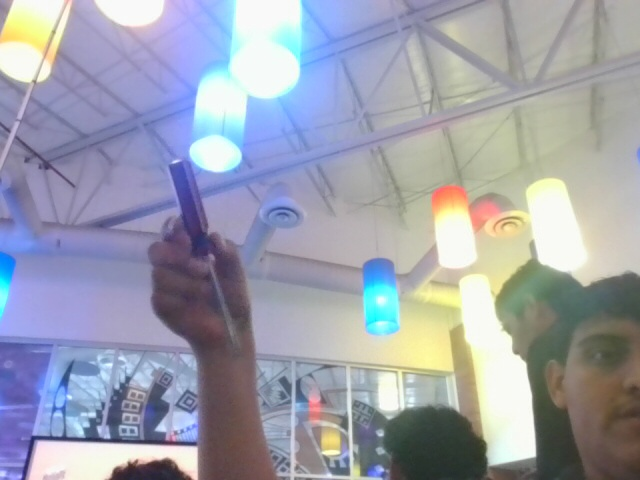destornillador: (166, 158, 240, 350)
